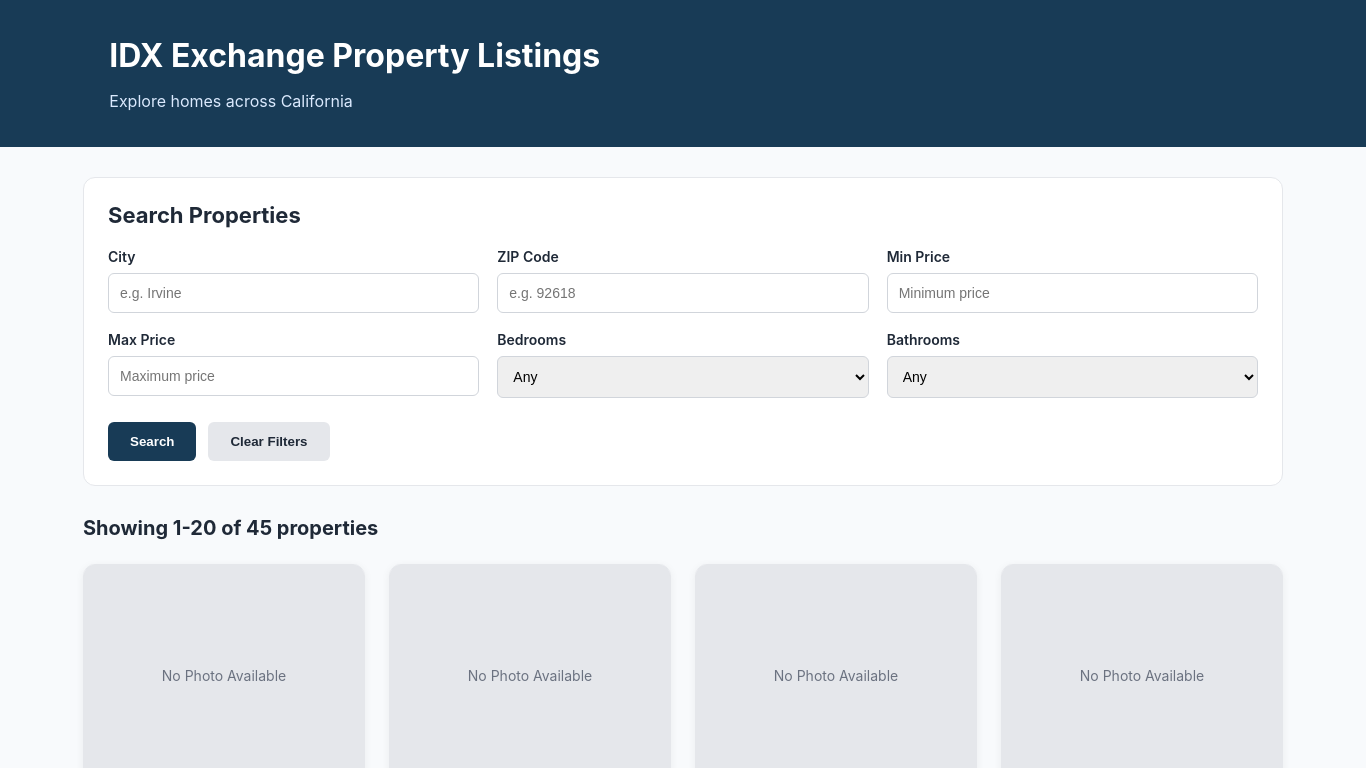
Test: ListingsPage Pagination Integration › resets to page 1 when applying new filters
Type "Irvine" into the field labelled "City". click: (294, 293)
box: [108,273,479,313]
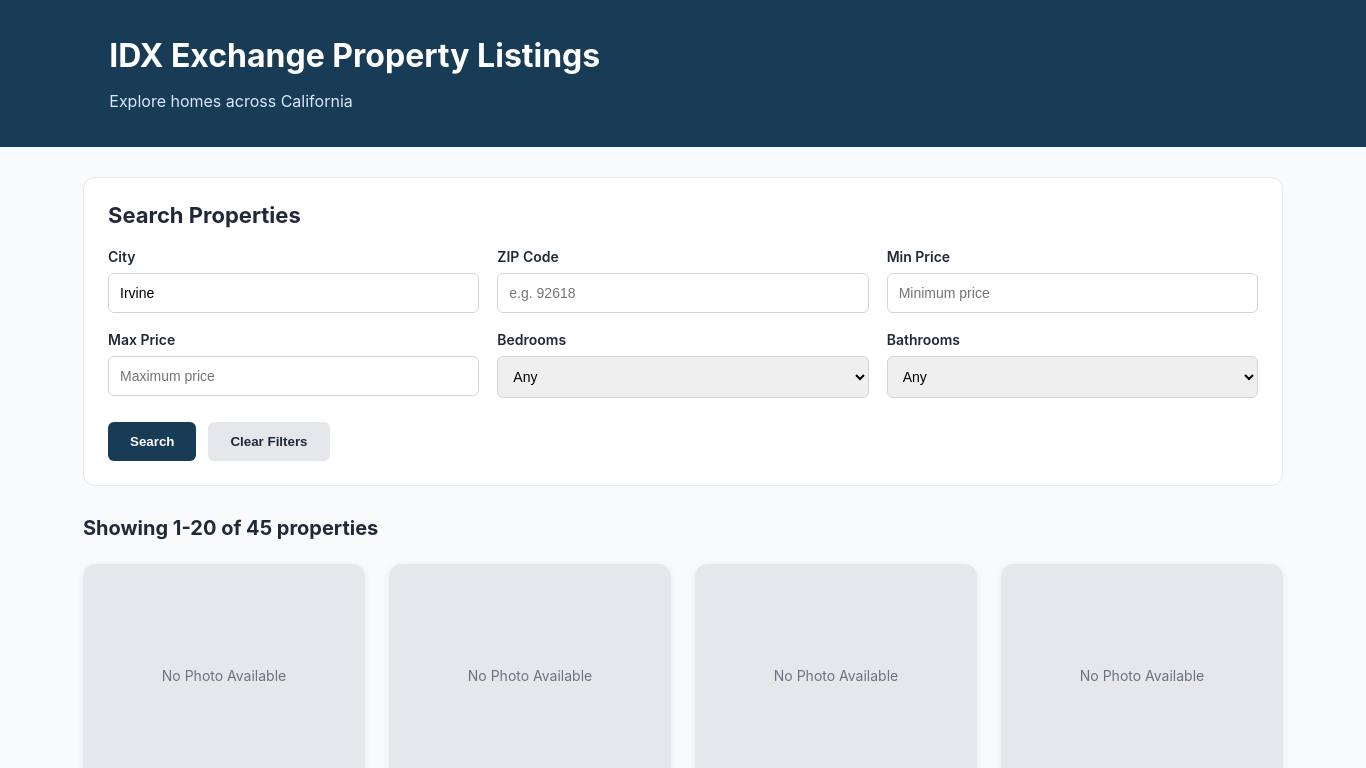
Click the button "Search". click: (152, 442)
box: [108,422,196,461]
(page scrolled)
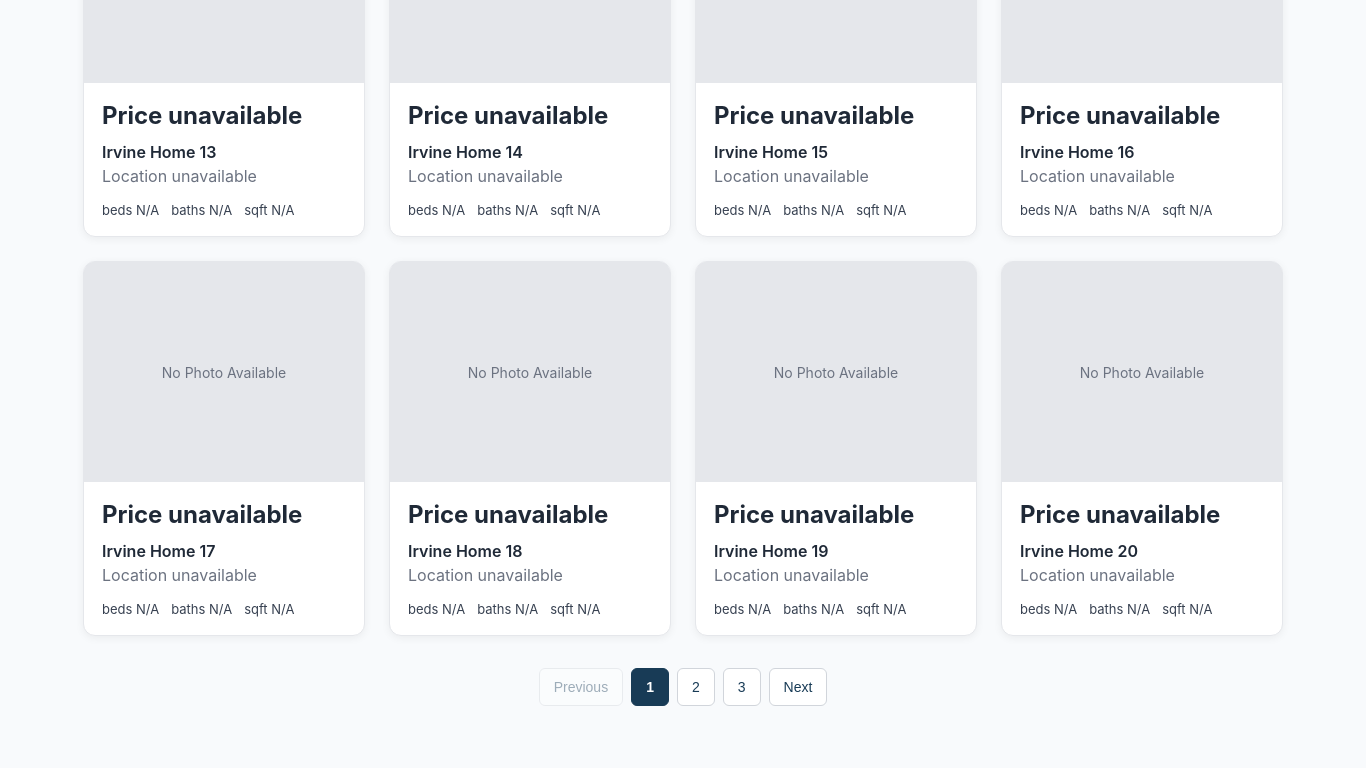
Click the button "2". click: (696, 687)
box: [677,668,715,706]
(page scrolled)
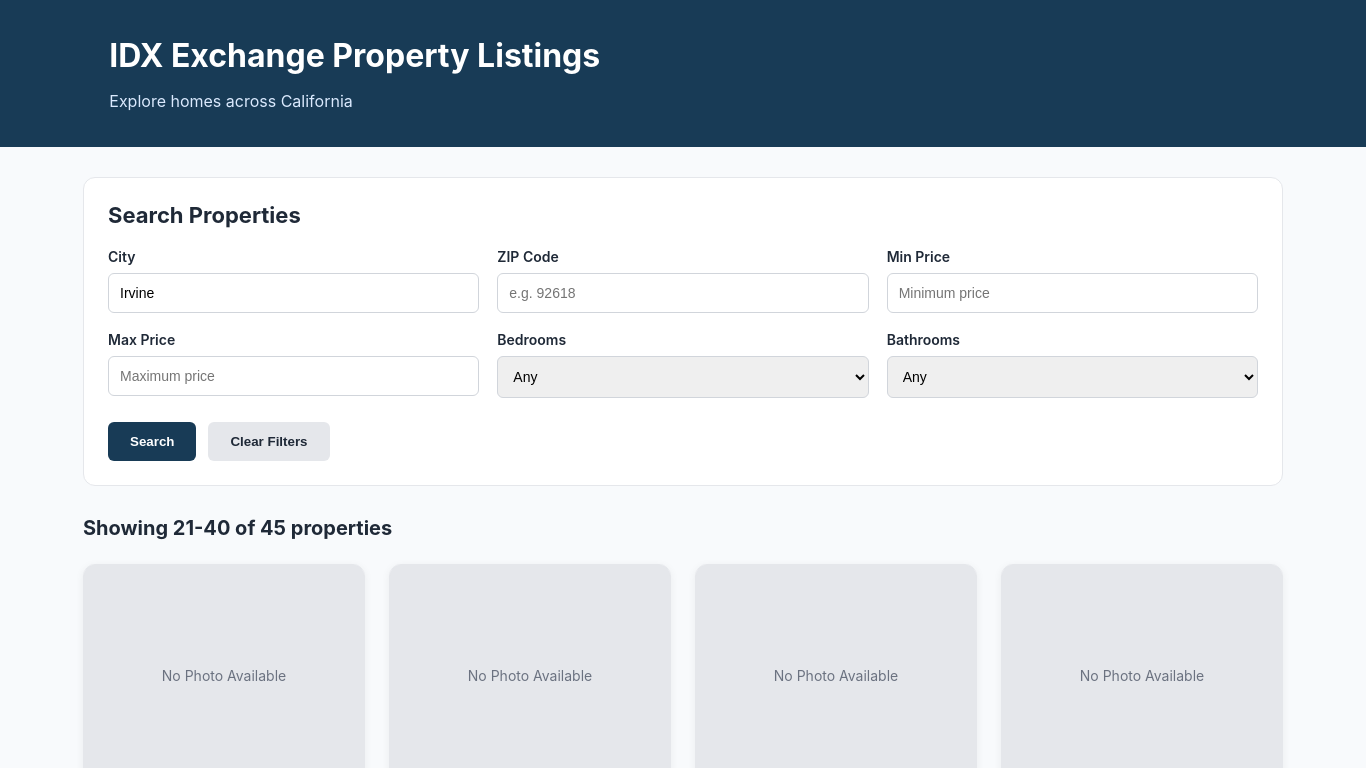
Replace the text in the field labelled "City" with "Pasadena". click: (294, 293)
box: [108,273,479,313]
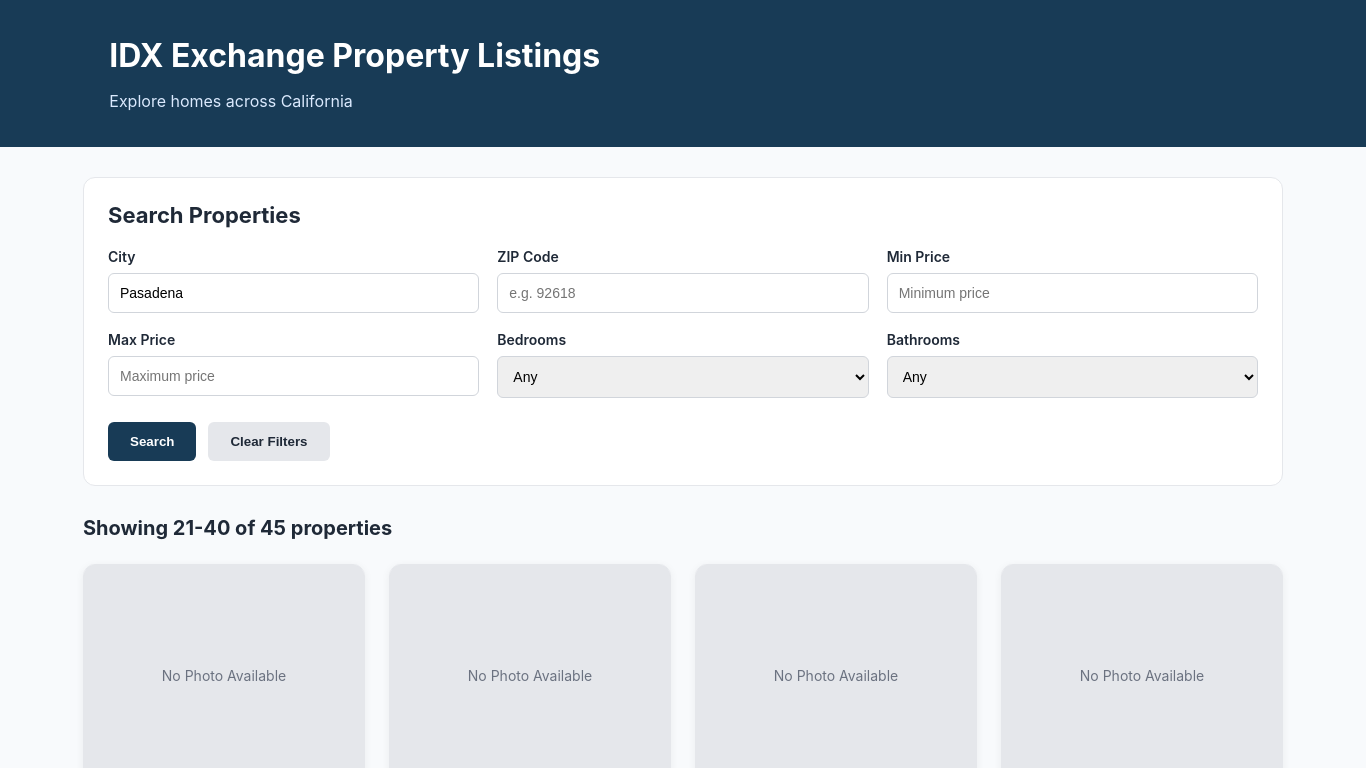
Click the button "Search". click: (152, 442)
box: [108,422,196,461]
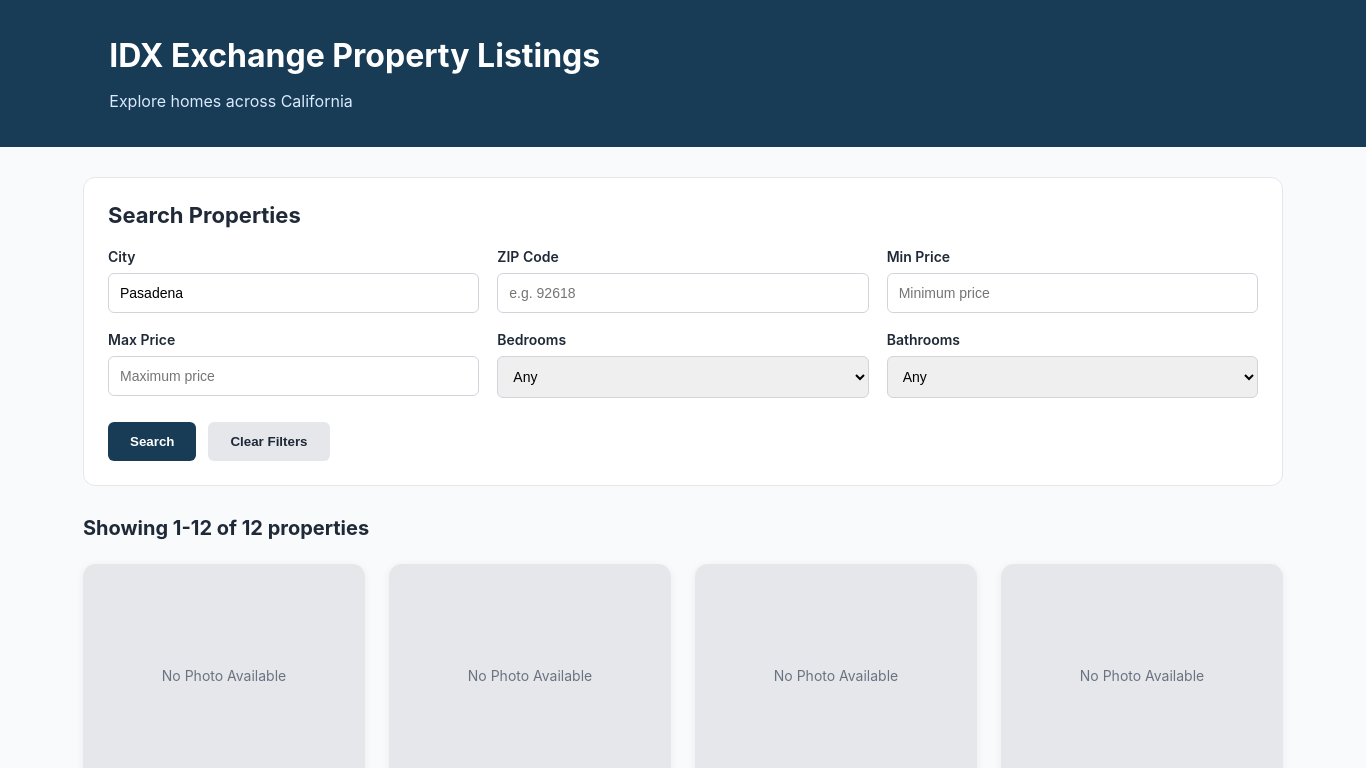
Expected: the heading "Showing 1-12 of 12 properties" is shown, [83,516,369,540]
